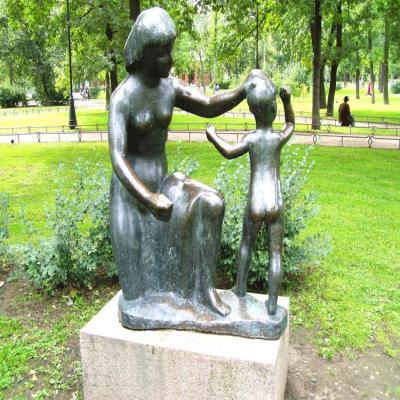sculpture: (79, 8, 296, 400)
